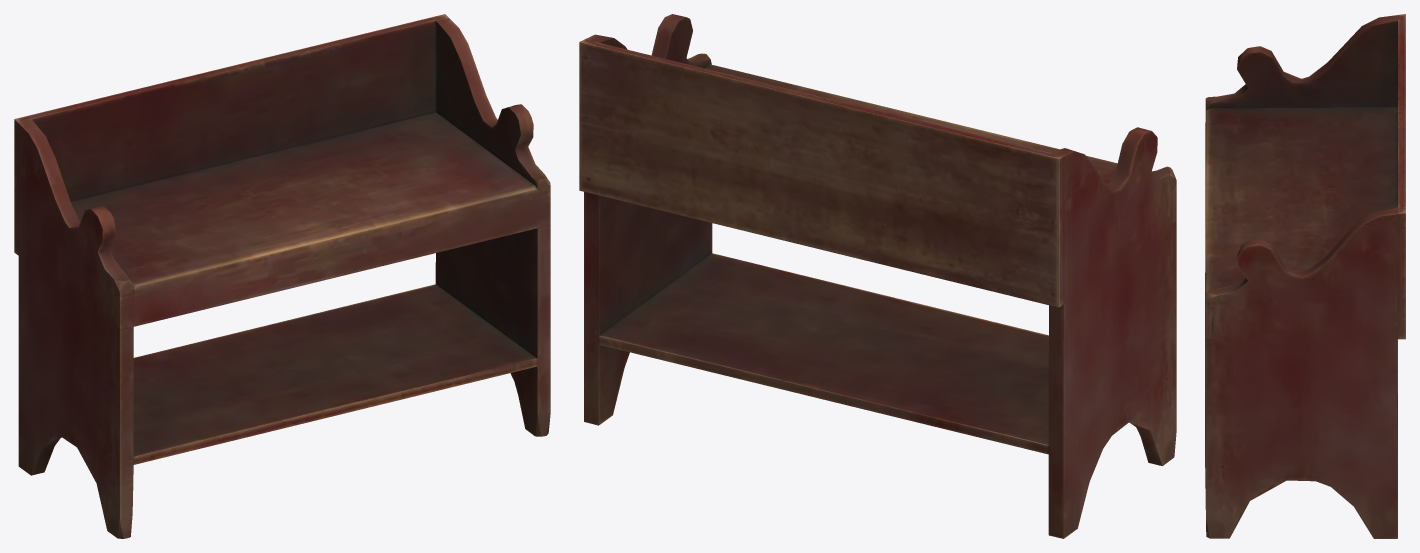
Rendered from ph-painted_wooden_bench.glb.
The picture shows the model from 3 angles, left to right: view 1: azimuth 30°, elevation 25°; view 2: azimuth 150°, elevation 25°; view 3: azimuth 270°, elevation 25°; orthographic projection. The views are drawn at different scales.
Visible parts, largest first — view 1: painted_wooden_bench; view 2: painted_wooden_bench; view 3: painted_wooden_bench.
Part boxes in pixels (x1=…): painted_wooden_bench: x1=14, y1=14, x2=550, y2=538; painted_wooden_bench: x1=579, y1=14, x2=1176, y2=538; painted_wooden_bench: x1=1205, y1=14, x2=1405, y2=538.
Size of the model in its own units: 1.16 by 0.8893 by 0.4965.
Materials: 1 (1 with a texture image).
